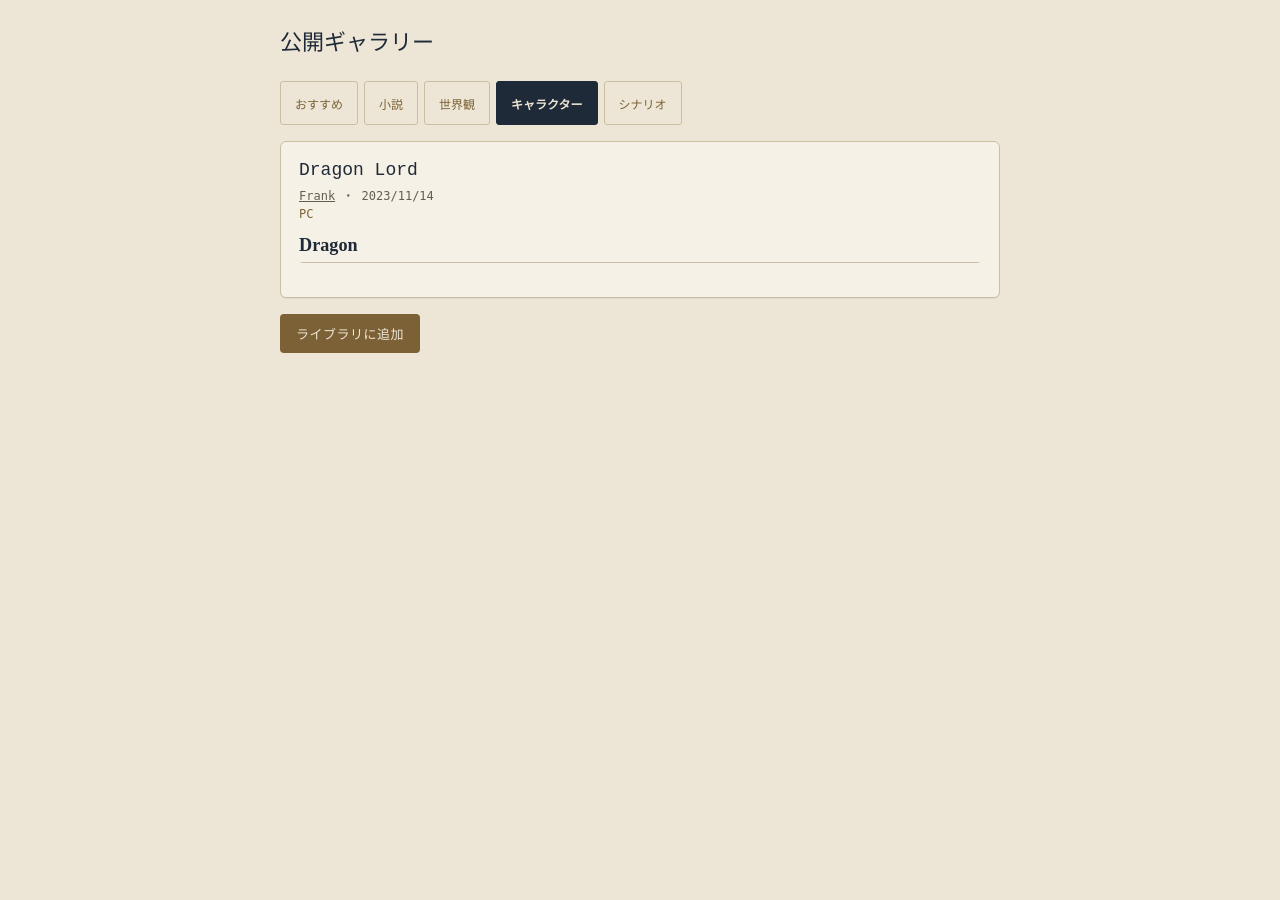
Scenario: Gallery › shows a message in the picker when the user has no worlds yet
The image size is (1280, 900).
Check: the heading "Dragon" is shown, box [299,233,981,263]
Step 1. Click the button "ライブラリに追加" → [350, 333], box [280,314,420,353]
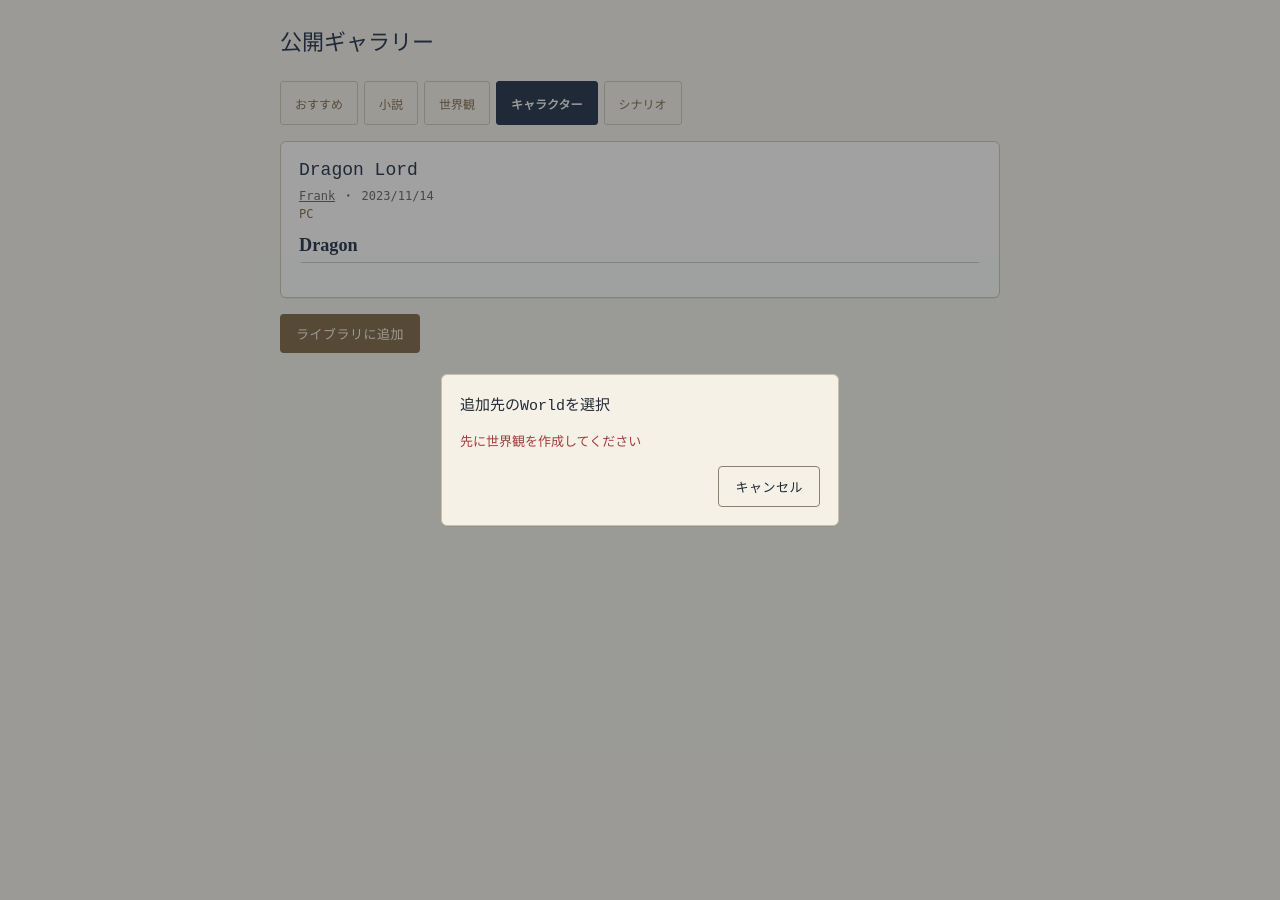
Check: the text "先に世界観を作成してください" is shown, box [460,434,641,449]
